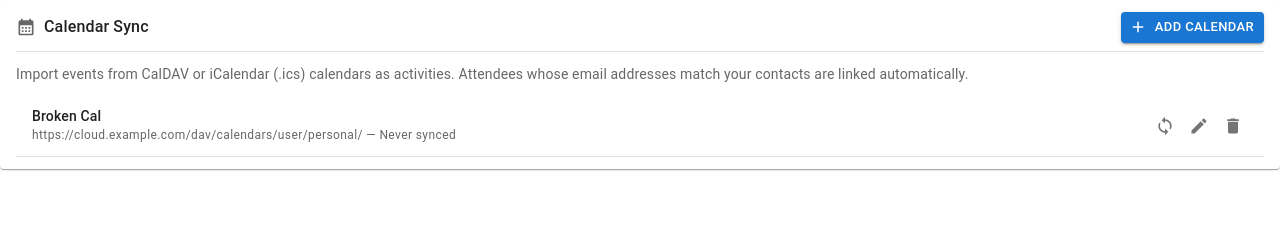
a sync failure surfaces the error instead of throwing
This screenshot has width=1280, height=236.
Expected: the text "Broken Cal" is shown, top-left (32, 106), bottom-right (101, 126)
Step 1. Click the button named "sync now" → {"x": 1165, "y": 126}, box top-left (1150, 111), bottom-right (1180, 141)
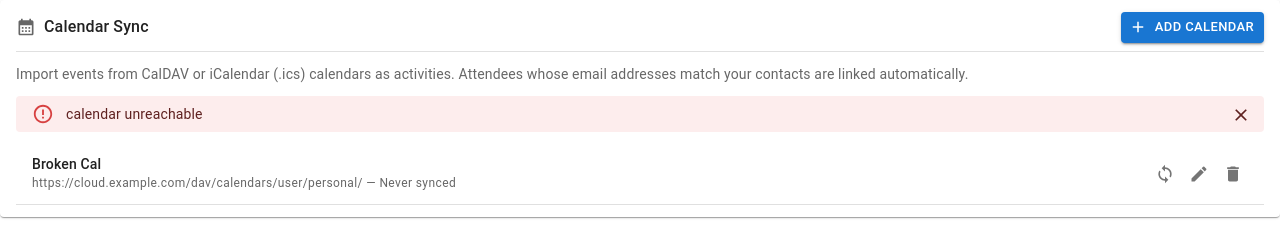
Expected: the text "calendar unreachable" is shown, top-left (66, 106), bottom-right (203, 122)
